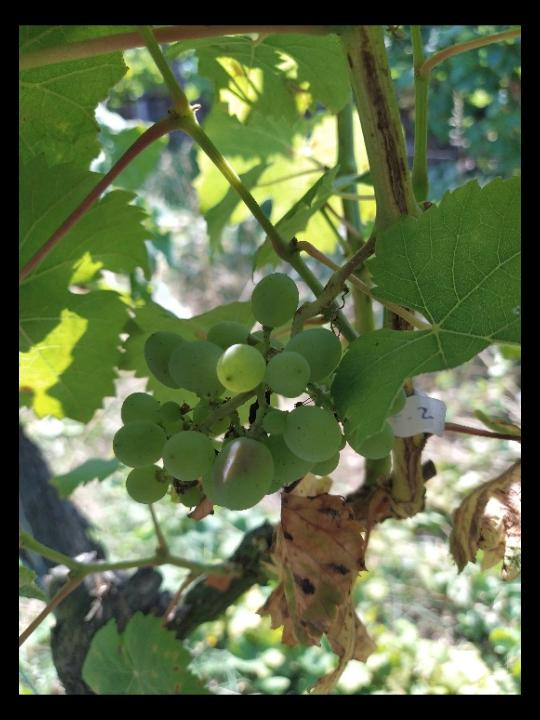grape: (111, 269, 409, 512)
